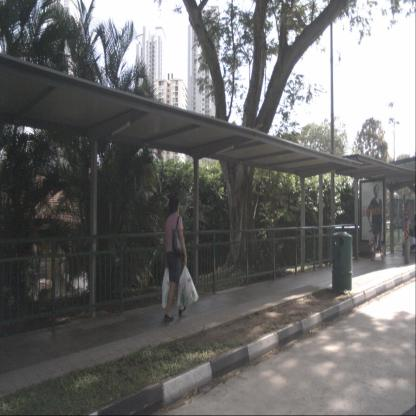human-pedestrian-adult: (162, 194, 198, 323), (402, 202, 410, 256)
vehicle-bicycle: (368, 228, 384, 261)
